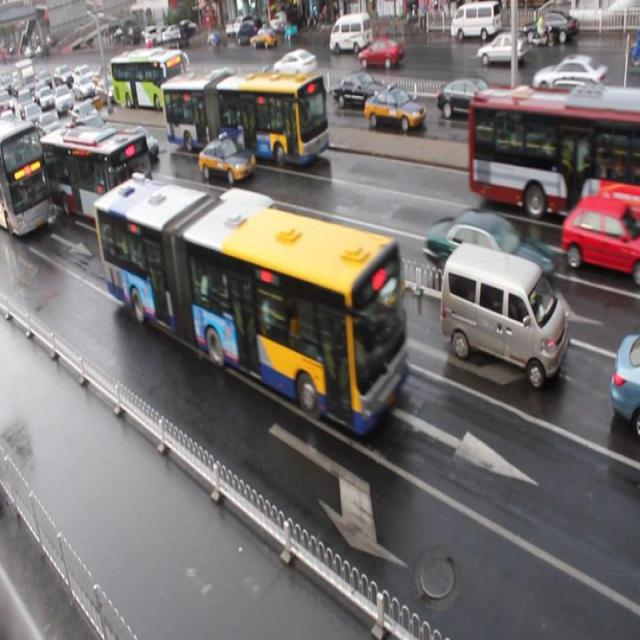car: (424, 210, 555, 310), (300, 229, 403, 321), (560, 196, 640, 278), (486, 91, 560, 156), (140, 188, 208, 252), (608, 330, 640, 432), (563, 83, 623, 137), (362, 85, 424, 133), (197, 136, 255, 183), (437, 76, 496, 122), (256, 84, 302, 129), (331, 75, 386, 110), (251, 66, 294, 110), (22, 160, 62, 204), (193, 81, 234, 120), (207, 66, 240, 99)
truck: (438, 240, 568, 389), (215, 188, 290, 284)
van: (92, 173, 410, 443), (465, 84, 640, 228), (161, 68, 330, 168), (38, 127, 154, 235), (1, 116, 54, 240), (111, 51, 185, 108)
